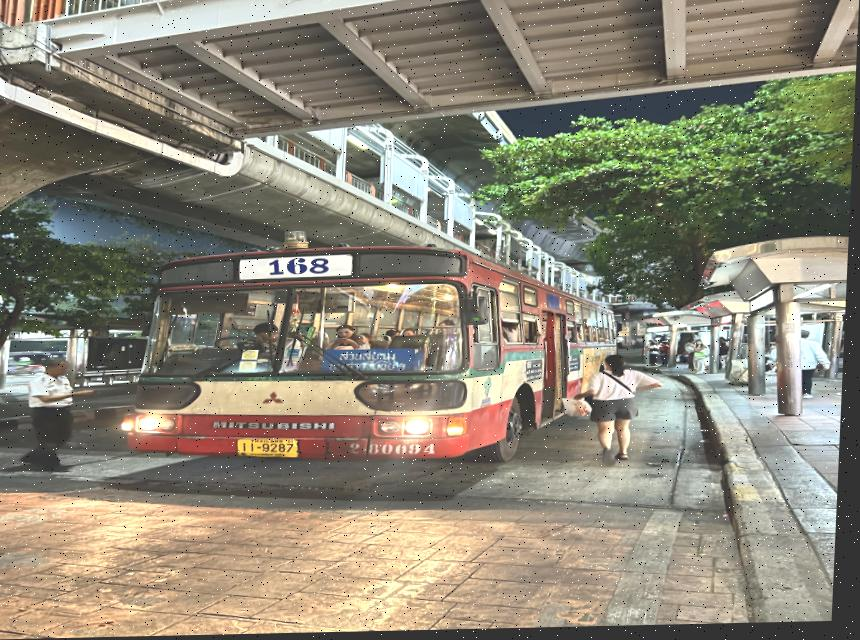BMTA-bus: (116, 248, 603, 464)
Bus Line Number: (259, 259, 339, 277)
Bus Side Number: (339, 440, 451, 460)
Destination Sign: (329, 348, 422, 375)
